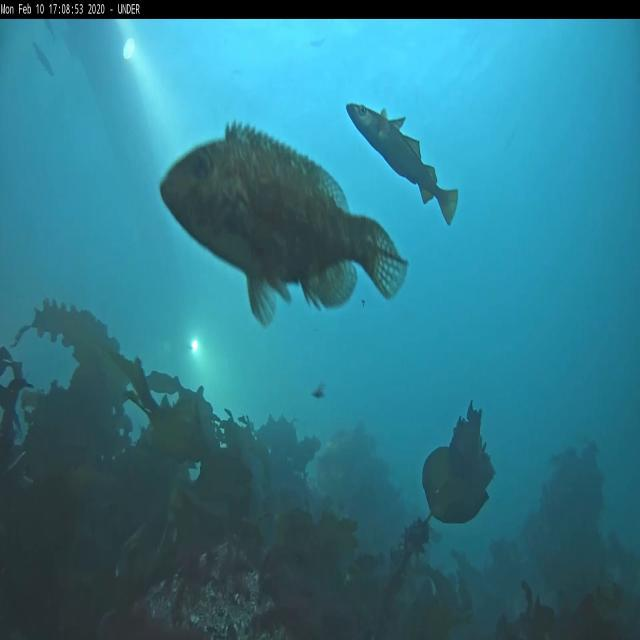fish: (158, 122, 408, 328), (345, 101, 458, 226), (32, 39, 54, 78)
